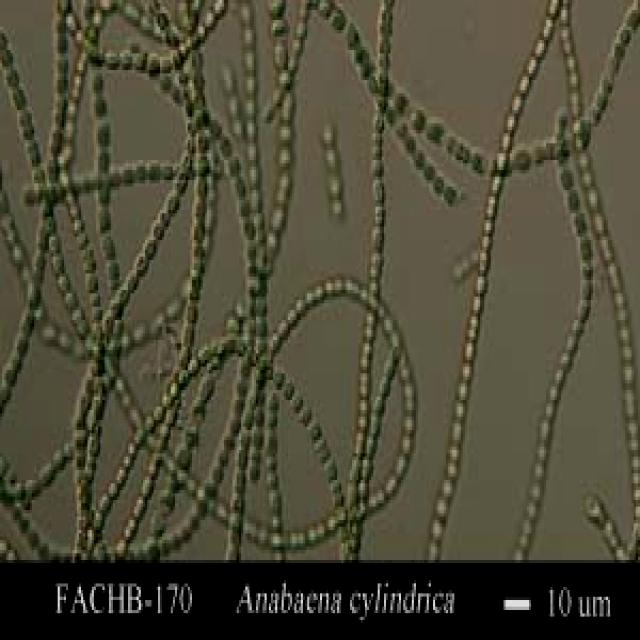Blue Green Algae: (469, 146, 491, 176), (578, 274, 597, 304), (271, 13, 292, 40), (328, 3, 344, 37), (100, 234, 118, 264), (132, 253, 152, 280), (8, 350, 26, 380), (234, 444, 252, 474), (426, 114, 444, 144), (38, 457, 58, 483), (94, 180, 113, 207), (369, 180, 388, 207), (105, 260, 122, 290), (369, 154, 386, 184), (70, 307, 88, 333), (390, 87, 408, 113), (570, 207, 588, 233), (83, 270, 100, 297), (190, 223, 209, 247), (51, 254, 66, 284), (371, 224, 386, 254), (580, 236, 595, 266), (92, 97, 109, 123), (576, 300, 595, 323), (88, 434, 102, 464), (28, 280, 42, 310), (412, 104, 426, 134), (564, 187, 582, 210), (132, 493, 147, 520), (19, 310, 34, 337), (271, 43, 286, 70), (96, 210, 113, 233), (143, 240, 160, 263), (183, 300, 200, 323), (132, 44, 145, 74), (96, 146, 109, 176), (147, 154, 160, 184), (305, 417, 320, 443), (618, 23, 634, 47), (94, 124, 113, 144), (422, 160, 436, 187), (24, 140, 40, 163), (164, 194, 182, 214), (196, 344, 214, 364), (15, 333, 30, 357), (2, 363, 17, 387), (230, 490, 248, 510), (346, 20, 358, 50), (175, 170, 188, 197), (98, 490, 111, 517), (194, 130, 209, 153), (192, 200, 207, 223), (241, 217, 256, 240), (5, 66, 22, 86), (156, 210, 173, 230), (194, 106, 211, 126), (124, 273, 138, 297), (264, 433, 278, 457), (51, 100, 62, 130), (273, 360, 284, 390), (433, 170, 444, 200), (122, 160, 136, 183), (90, 74, 106, 94), (264, 410, 280, 430), (120, 47, 132, 73), (147, 53, 160, 77), (228, 153, 241, 177), (561, 163, 574, 187), (47, 234, 62, 254), (179, 326, 194, 346), (141, 476, 156, 496), (228, 510, 243, 530), (111, 297, 124, 320), (194, 177, 207, 200), (177, 347, 190, 370), (318, 440, 331, 463), (373, 397, 386, 420), (160, 47, 171, 73), (326, 457, 337, 483), (10, 84, 24, 104), (56, 56, 70, 76), (106, 46, 120, 66), (124, 520, 138, 540), (378, 377, 390, 400), (444, 180, 456, 203), (354, 43, 365, 67), (17, 106, 30, 126), (100, 314, 113, 334), (137, 157, 147, 183), (194, 154, 207, 174), (94, 396, 107, 416), (232, 176, 245, 196), (241, 406, 254, 426), (369, 414, 382, 434), (254, 320, 269, 337), (152, 224, 164, 244), (54, 13, 68, 30), (364, 437, 378, 453), (256, 300, 269, 317), (232, 473, 245, 490), (56, 33, 68, 50), (56, 74, 66, 94), (220, 134, 230, 154), (228, 530, 243, 543), (282, 380, 292, 397), (237, 200, 250, 213), (58, 277, 68, 293), (256, 340, 267, 353)
